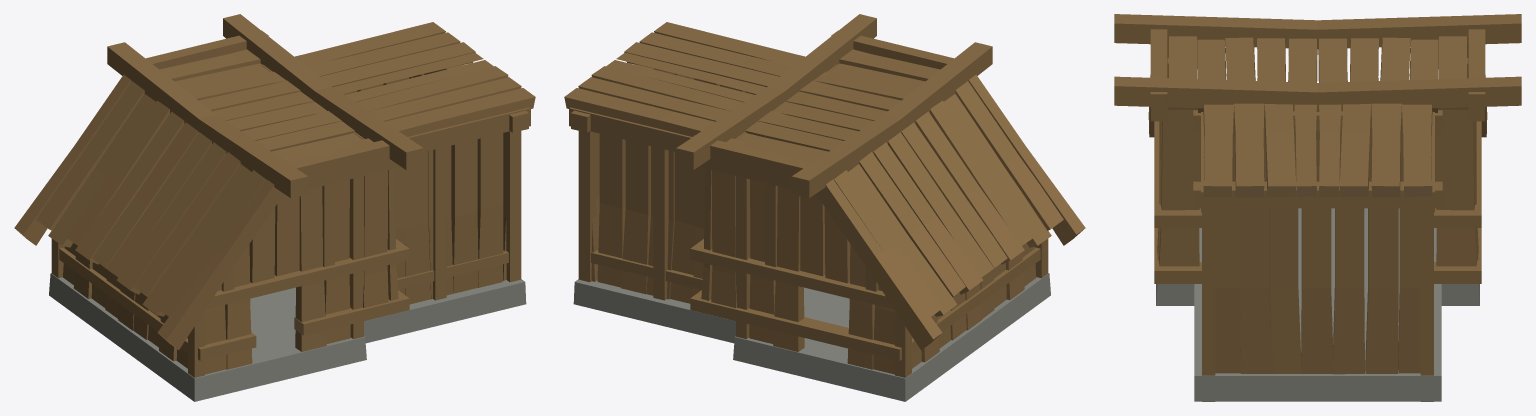
File: Hut-wxi3kAu5ey.glb
The picture shows the model from 3 angles, left to right: view 1: azimuth 30°, elevation 25°; view 2: azimuth 150°, elevation 25°; view 3: azimuth 270°, elevation 25°; orthographic projection. The views are drawn at different scales.
Visible parts, largest first — view 1: Houses_FirstAge_2_Level3; view 2: Houses_FirstAge_2_Level3; view 3: Houses_FirstAge_2_Level3.
Part boxes in pixels (x1,y1,x2,y2): Houses_FirstAge_2_Level3: [14, 14, 535, 401]; Houses_FirstAge_2_Level3: [564, 14, 1085, 401]; Houses_FirstAge_2_Level3: [1114, 14, 1521, 401].
Bounding box in the file's own units: 1.46 × 0.7685 × 1.17.
